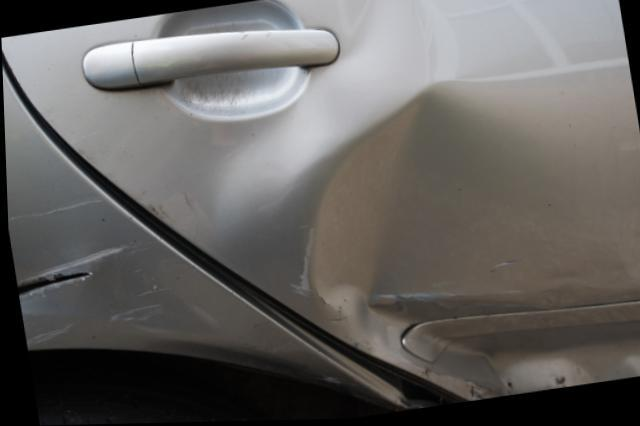crack: (15, 270, 92, 297)
dent: (189, 0, 640, 405)
scratch: (13, 243, 172, 352)
